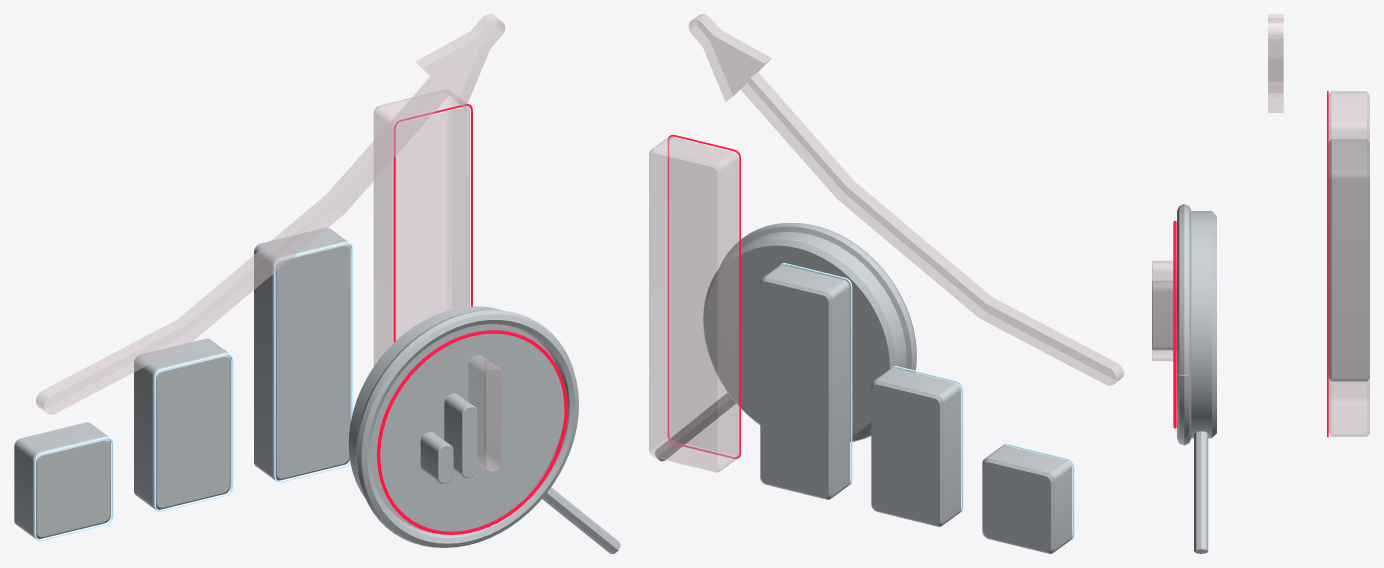
The model's file is 41-forecast.glb.
3 views of the same model, side by side, from view 1: azimuth 30°, elevation 25°; view 2: azimuth 150°, elevation 25°; view 3: azimuth 270°, elevation 25° (orthographic). The views are drawn at different scales.
Parts seen in each view (by area): view 1: BC thin clear technical glass, BC subtle ruby technical glass, BC ruby signal edge, BC cool glass edge; view 2: BC thin clear technical glass, BC subtle ruby technical glass, BC ruby signal edge, BC cool glass edge; view 3: BC thin clear technical glass, BC subtle ruby technical glass, BC ruby signal edge.
Part boxes in pixels (x1=…): BC thin clear technical glass: x1=14, y1=227, x2=620, y2=553; BC subtle ruby technical glass: x1=36, y1=14, x2=505, y2=471; BC ruby signal edge: x1=377, y1=104, x2=567, y2=534; BC cool glass edge: x1=34, y1=242, x2=352, y2=541; BC thin clear technical glass: x1=655, y1=223, x2=1072, y2=553; BC subtle ruby technical glass: x1=649, y1=14, x2=1123, y2=472; BC ruby signal edge: x1=667, y1=134, x2=740, y2=458; BC cool glass edge: x1=780, y1=263, x2=1074, y2=539; BC thin clear technical glass: x1=1152, y1=139, x2=1369, y2=553; BC subtle ruby technical glass: x1=1152, y1=14, x2=1369, y2=436; BC ruby signal edge: x1=1173, y1=91, x2=1328, y2=437.
Bounding box in the file's own units: 2.07 × 1.93 × 0.7652.
